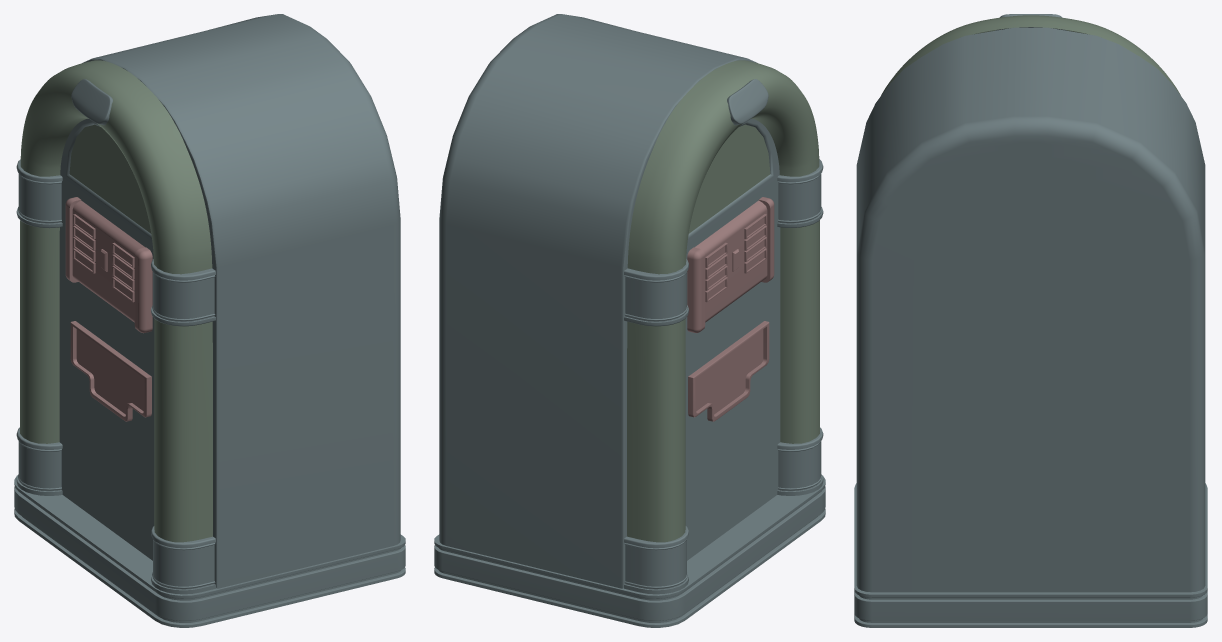
File: rockola 1.fbx
3 renders of one model, left to right at view 1: azimuth 30°, elevation 25°; view 2: azimuth 150°, elevation 25°; view 3: azimuth 270°, elevation 25°, orthographic. The views are drawn at different scales.
Parts seen in each view (by area): view 1: pCube24, pCylinder17, pCube27, pCube25; view 2: pCube24, pCylinder17, pCube27, pCube25; view 3: pCube24, pCylinder17.
Part boxes in pixels (x1=…): pCube24: x1=14, y1=14, x2=405, y2=627; pCylinder17: x1=20, y1=60, x2=212, y2=542; pCube27: x1=65, y1=197, x2=152, y2=421; pCube25: x1=69, y1=124, x2=151, y2=233; pCube24: x1=434, y1=14, x2=825, y2=627; pCylinder17: x1=627, y1=60, x2=819, y2=542; pCube27: x1=687, y1=197, x2=774, y2=421; pCube25: x1=688, y1=124, x2=770, y2=233; pCube24: x1=854, y1=14, x2=1207, y2=627; pCylinder17: x1=881, y1=15, x2=1180, y2=95.
Size of the model in its own units: 1.02 by 1.96 by 1.25.
